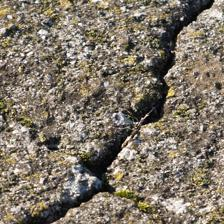Crack: (2, 64, 114, 148), (72, 50, 114, 215)
